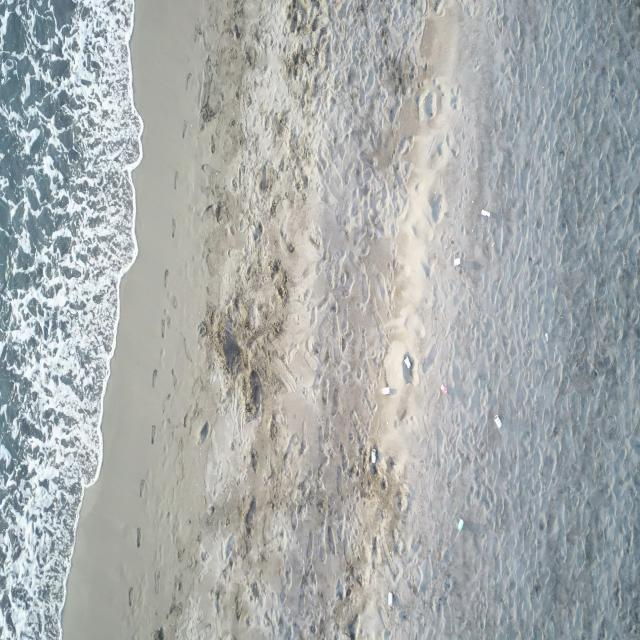Garbage: (403, 352, 412, 383), (380, 387, 393, 395), (403, 355, 411, 368), (493, 413, 500, 427), (456, 520, 463, 531), (387, 591, 392, 606), (480, 208, 489, 216), (453, 256, 460, 266), (440, 383, 447, 393), (372, 447, 375, 464), (544, 332, 547, 340)
